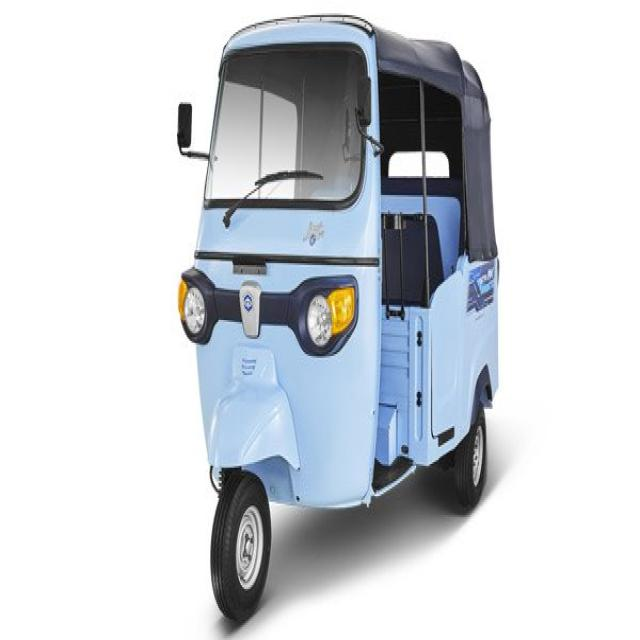autorickshaw: (176, 13, 502, 631)
